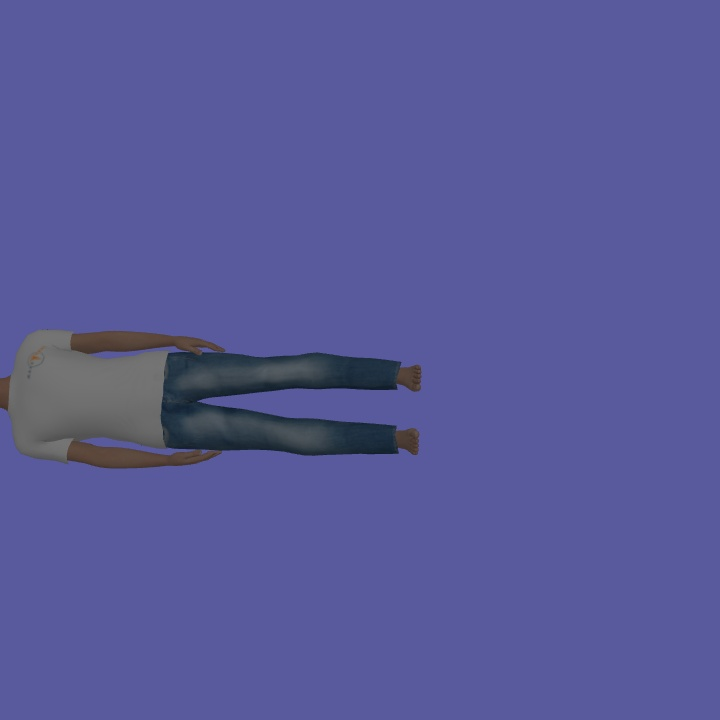victim: (1, 326, 425, 472)
